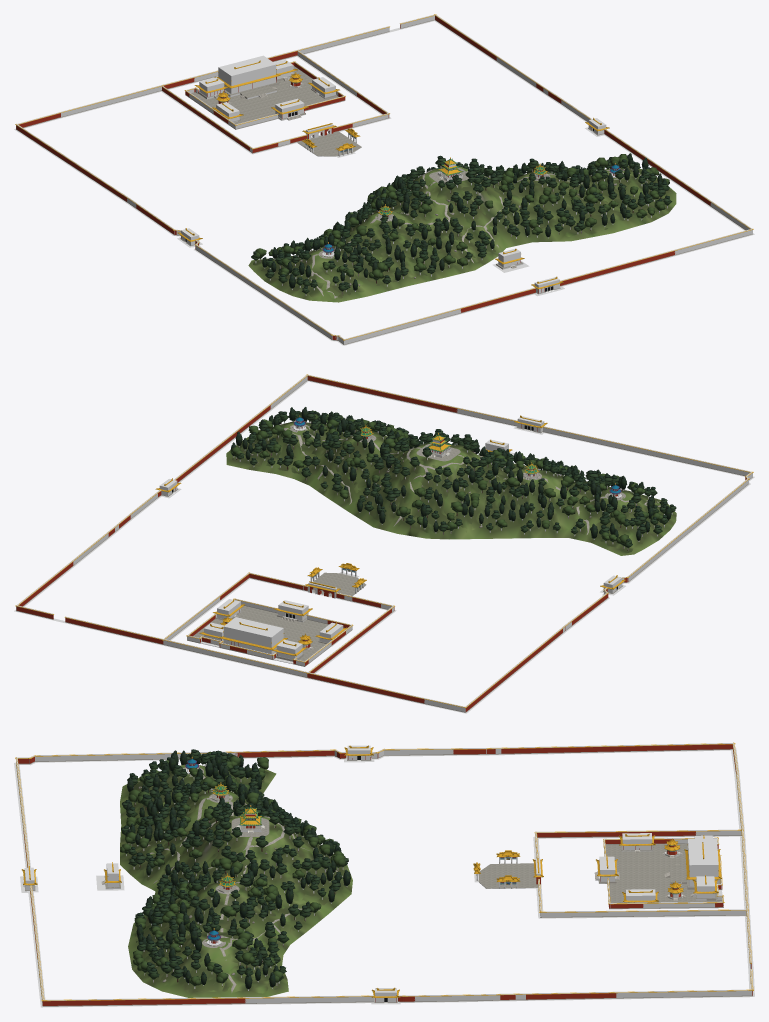
Rendered from jingshan.glb.
3 views of the same model, one above another, from view 1: azimuth 30°, elevation 25°; view 2: azimuth 150°, elevation 25°; view 3: azimuth 270°, elevation 25° (orthographic). The views are drawn at different scales.
Visible parts, largest first — view 1: Massing, Buildings, Hill, COL_hall.009, COL_wall.021, COL_wall.024, COL_wall.025, COL_wall.011; view 2: Massing, Hill, Buildings, COL_hall.009, COL_wall.024, COL_wall.021, COL_wall.025; view 3: Massing, Buildings, Hill, COL_wall.026, COL_hall.009, COL_wall, COL_wall.021, COL_wall.006, COL_wall.033, COL_wall.016, CLEAR_wallstrip, CLEAR_wallstrip.035 (+1 smaller).
Part boxes in pixels (x1,y1,x2,y2): Massing: (15,14,753,340); Buildings: (16,16,752,344); Hill: (253,166,671,302); COL_hall.009: (218,55,276,93); COL_wall.021: (195,245,332,340); COL_wall.024: (343,287,535,344); COL_wall.025: (560,229,752,281); COL_wall.011: (60,85,161,116); Massing: (15,374,753,711); Hill: (232,421,669,553); Buildings: (16,376,753,712); COL_hall.009: (223,617,283,654); COL_wall.024: (543,426,752,476); COL_wall.021: (627,479,748,582); COL_wall.025: (307,374,517,425); Massing: (15,742,753,1005); Buildings: (16,744,752,1006); Hill: (120,764,343,993); COL_wall.026: (540,909,746,916); COL_hall.009: (688,838,718,886); COL_wall: (44,995,373,1003); COL_wall.021: (35,749,334,761); COL_wall.006: (616,989,752,997); COL_wall.033: (543,829,741,835); COL_wall.016: (383,748,472,754); CLEAR_wallstrip: (41,1002,371,1007); CLEAR_wallstrip.035: (28,891,45,1007).
Size of the model in its own units: 450 by 63.31 by 544.
Materials: 18 (5 with a texture image).
